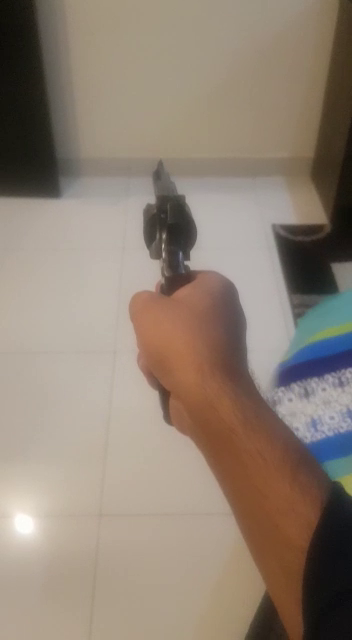handgun: (123, 161, 251, 360)
